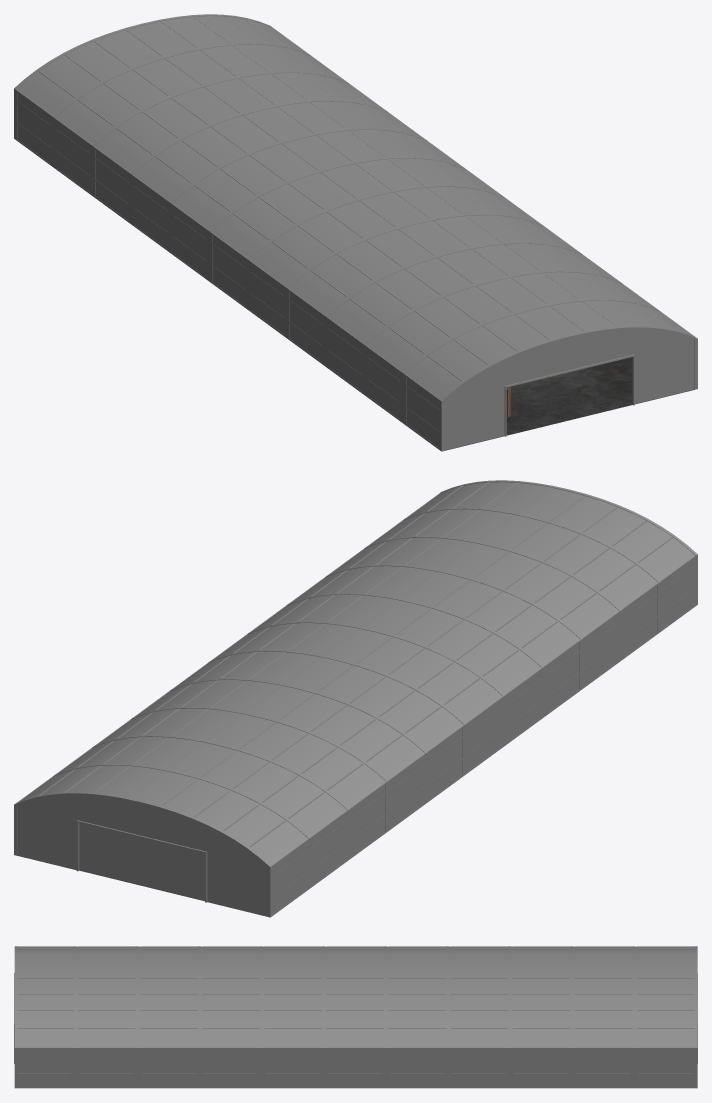
Rendered from zero_line_hangar_step3.glb.
3 views of the same model, one above another, from view 1: azimuth 30°, elevation 25°; view 2: azimuth 150°, elevation 25°; view 3: azimuth 270°, elevation 25° (orthographic). The views are drawn at different scales.
Parts seen in each view (by area): view 1: NurbsPath.005_Metal_0, NurbsPath.005_WetConcrete_0; view 2: NurbsPath.005_Metal_0; view 3: NurbsPath.005_Metal_0.
Boxes of the visible parts, x1,y1,x2,y2 form: NurbsPath.005_Metal_0: [14, 14, 697, 451]; NurbsPath.005_WetConcrete_0: [444, 357, 694, 450]; NurbsPath.005_Metal_0: [14, 480, 697, 917]; NurbsPath.005_Metal_0: [14, 946, 697, 1088].
Size of the model in its own units: 16 by 5.02 by 46.27.
6 materials, 1 textured.
